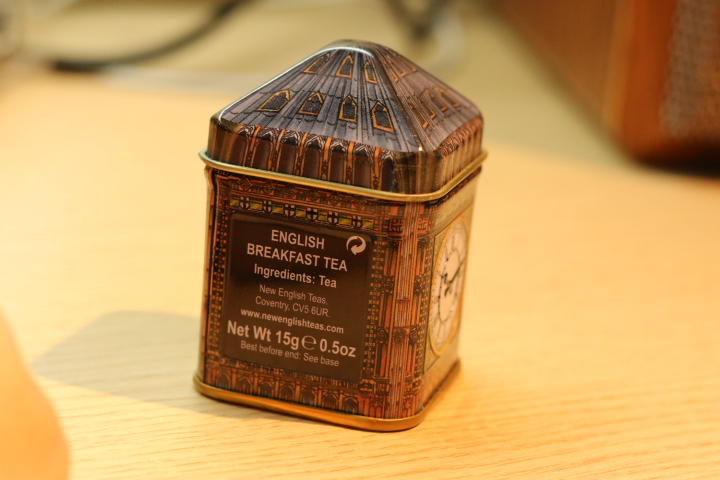Big Ben: (183, 32, 496, 442)
